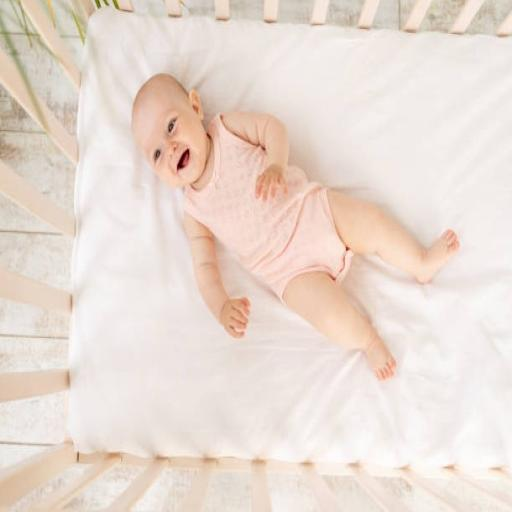baby: (132, 75, 459, 379)
crib: (0, 441, 511, 510)
